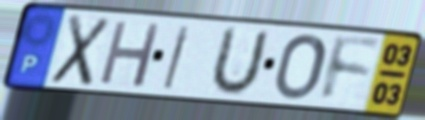F: (318, 33, 384, 104)
H: (96, 18, 164, 90)
I: (160, 23, 194, 92)
O: (272, 32, 329, 103)
U: (205, 24, 272, 98)
X: (48, 12, 114, 89)
